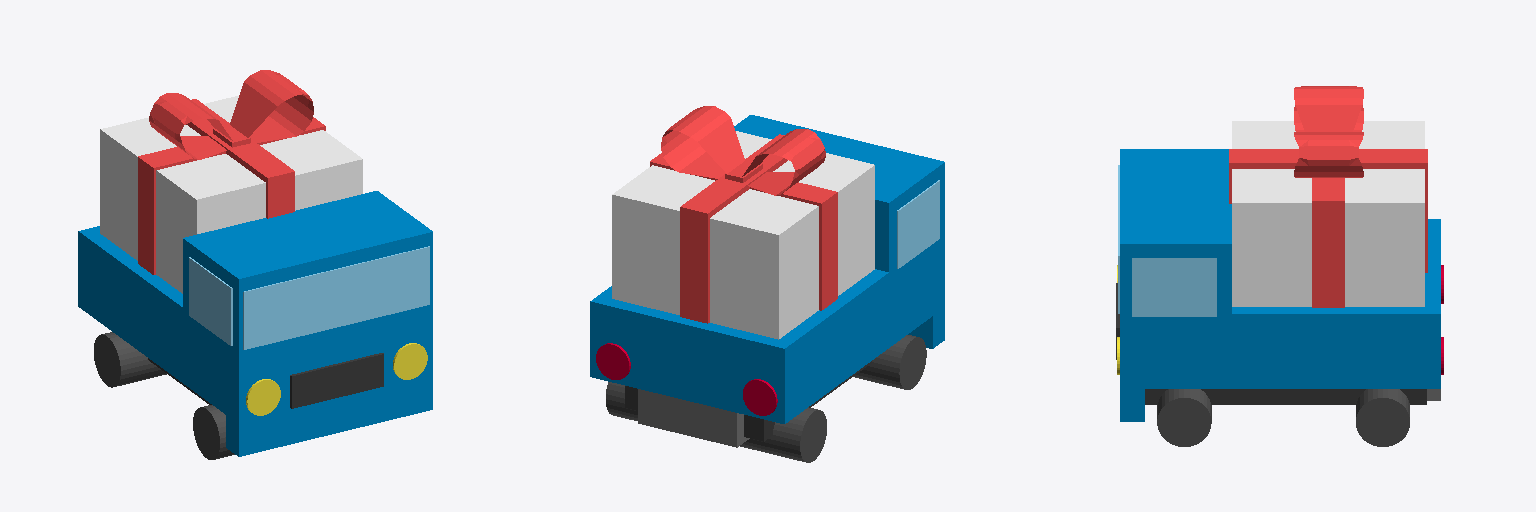
3 views of the same model, side by side, from view 1: azimuth 30°, elevation 25°; view 2: azimuth 150°, elevation 25°; view 3: azimuth 270°, elevation 25° (orthographic).
Parts seen in each view (by area): view 1: トラック, プレゼント; view 2: トラック, プレゼント; view 3: トラック, プレゼント.
Boxes of the visible parts, <box> form: トラック: <box>78,191,432,459</box>; プレゼント: <box>100,70,362,293</box>; トラック: <box>590,115,944,462</box>; プレゼント: <box>612,106,874,339</box>; トラック: <box>1116,149,1443,446</box>; プレゼント: <box>1229,86,1427,307</box>.
Size of the model in its own units: 0.71 by 0.9885 by 1.02.
Materials: 1 (1 with a texture image).